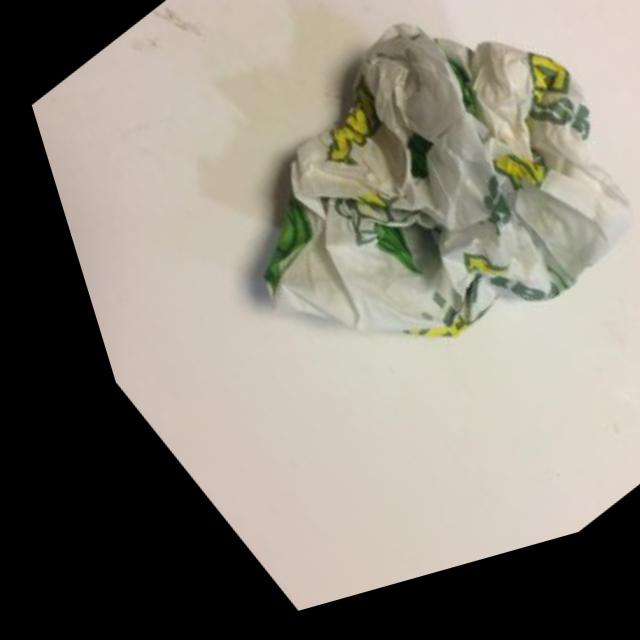trash: (75, 0, 640, 563)
